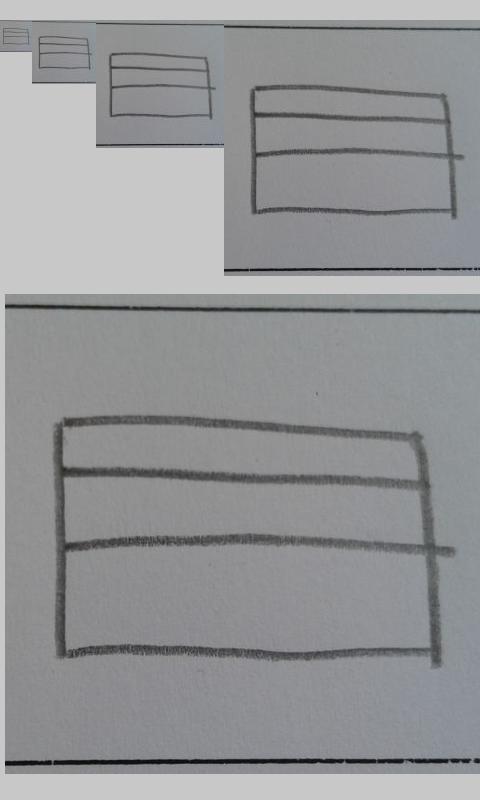list_view: (54, 411, 440, 662), (248, 83, 459, 219), (108, 51, 213, 119), (38, 36, 92, 69), (2, 27, 30, 45)
